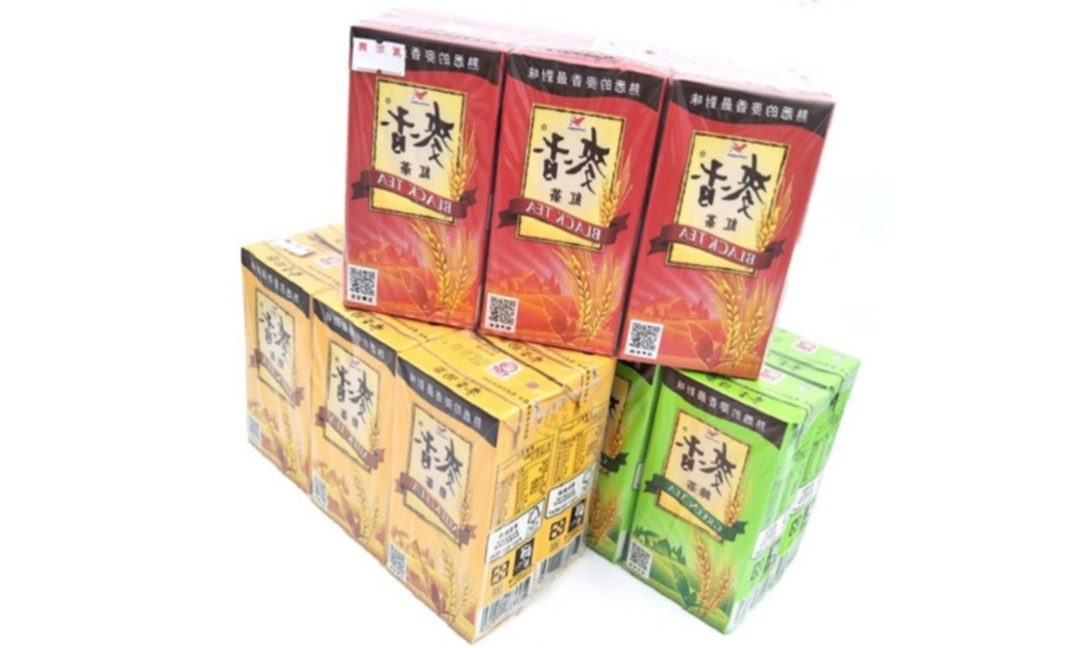鋁箔包: (612, 51, 850, 388), (355, 316, 583, 648), (303, 0, 522, 336), (470, 28, 677, 364), (611, 342, 839, 646), (292, 282, 477, 577), (199, 218, 382, 513), (565, 334, 672, 570), (668, 0, 906, 11)
